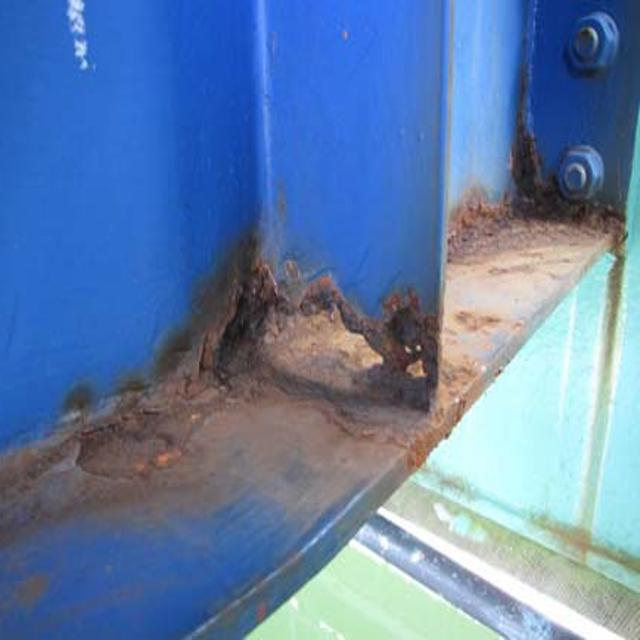corrosion: (14, 259, 437, 504), (456, 120, 624, 257)
